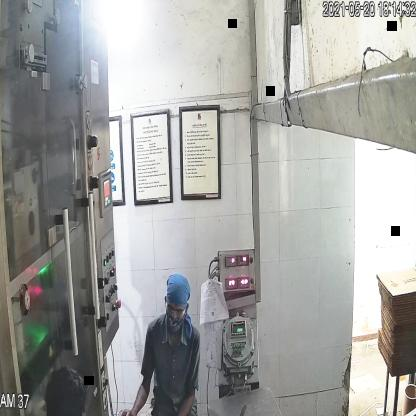goggles: (162, 296, 190, 324)
